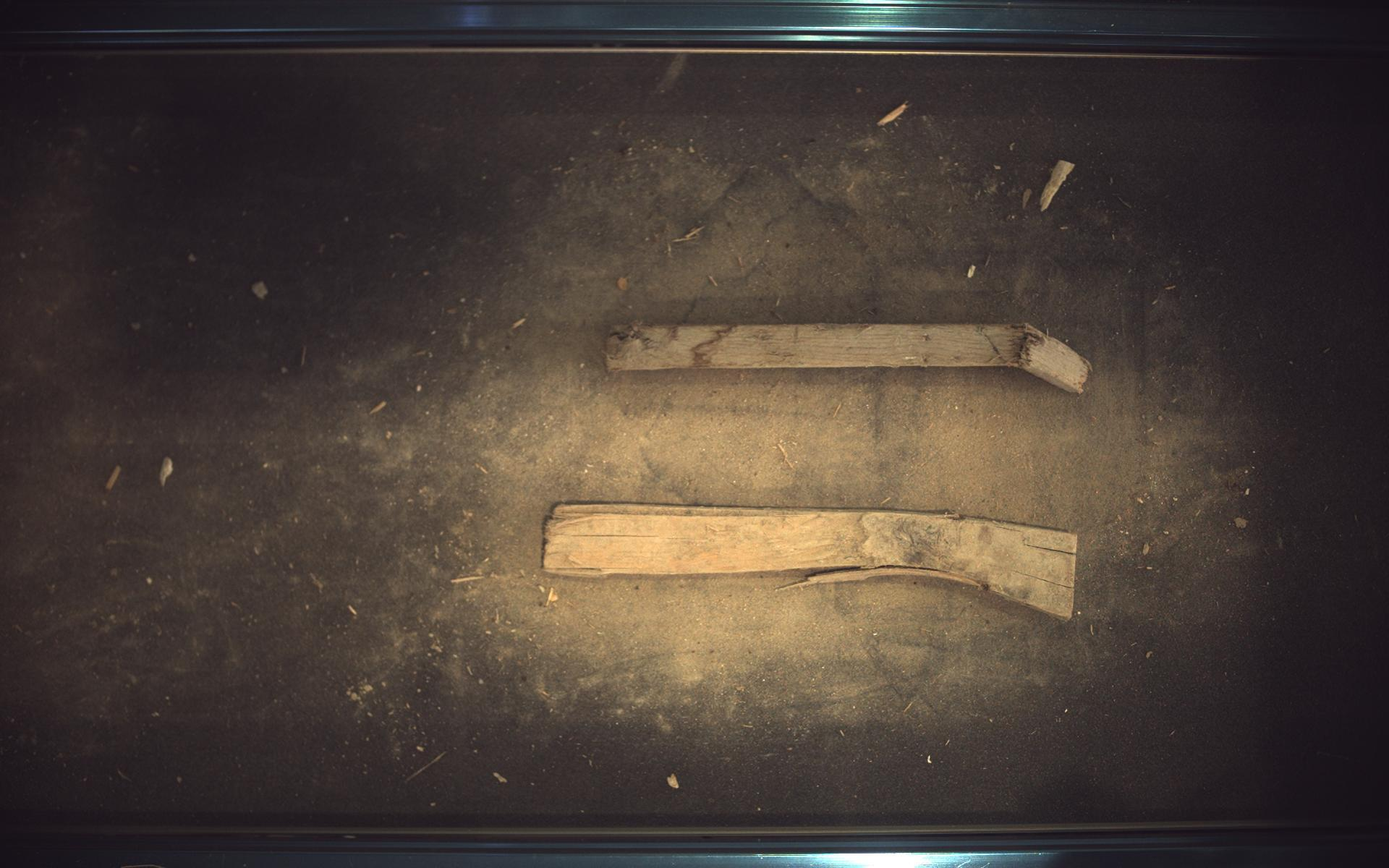wood: (543, 503, 1079, 619), (607, 323, 1093, 393)
